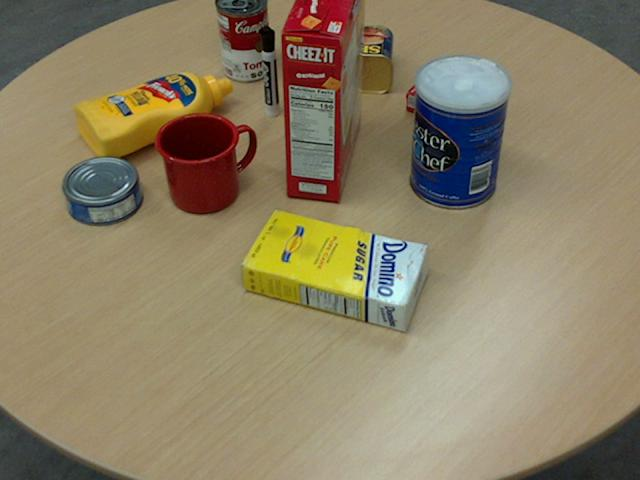cracker_box: (279, 0, 366, 200)
gelatin_box: (406, 60, 488, 125)
large_marker: (261, 25, 278, 114)
master_chef_can: (409, 54, 511, 209)
mug: (153, 110, 255, 212)
mustard_bottle: (74, 70, 232, 157)
potted_meat_can: (316, 23, 394, 92)
sugar_box: (237, 209, 429, 332)
tomato_soup_can: (217, 0, 272, 78)
tuna_fish_can: (61, 153, 141, 222)
